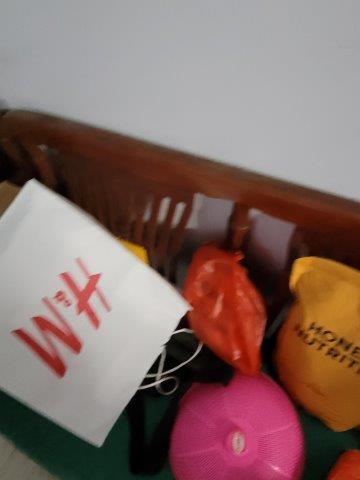plastik: (183, 248, 268, 372)
